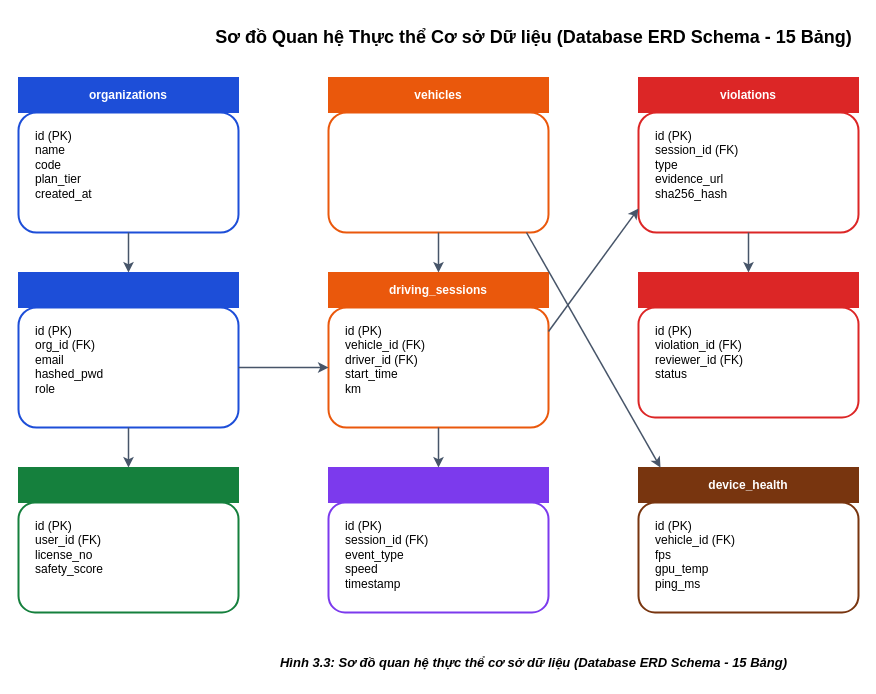
This 876x694 diagram has some shape labels left out. Each missing label, with the centre of its shape:
drivers: the point at 128,484
id (PK) org_id (FK) plate_number model camera_id: the point at 438,172
trip_events: the point at 438,484
users: the point at 128,290
violation_reviews: the point at 748,290
